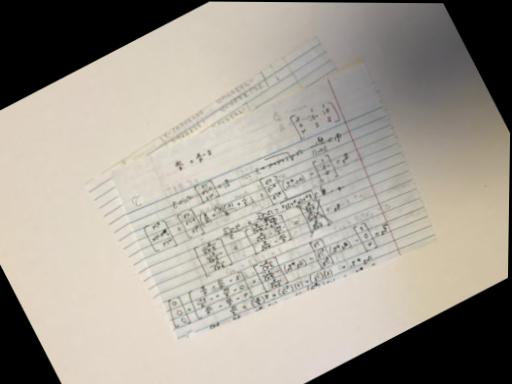paper: (69, 21, 456, 376)
